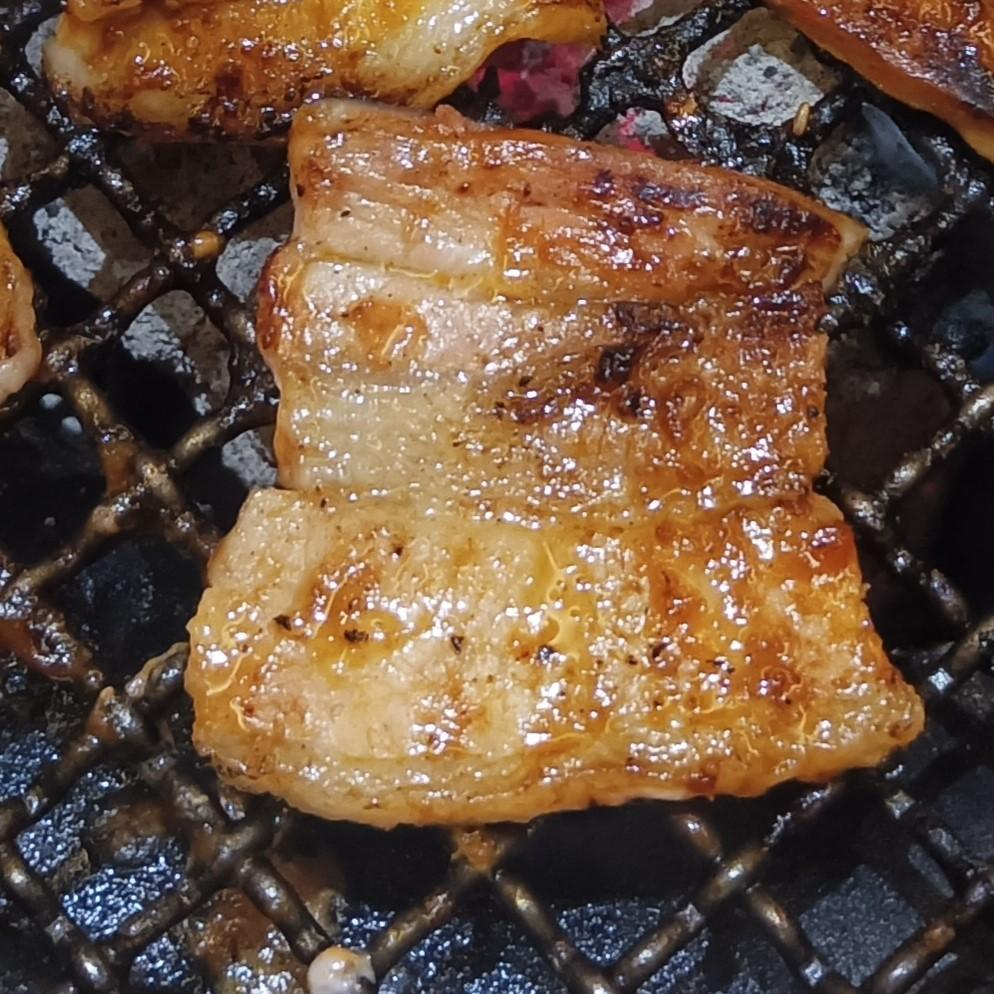Overcooked: (182, 98, 926, 832), (42, 0, 630, 142), (768, 0, 993, 157)
